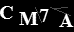7: (37, 8, 50, 24)
A: (58, 13, 73, 28)
C: (1, 4, 13, 20)
M: (17, 10, 39, 26)
